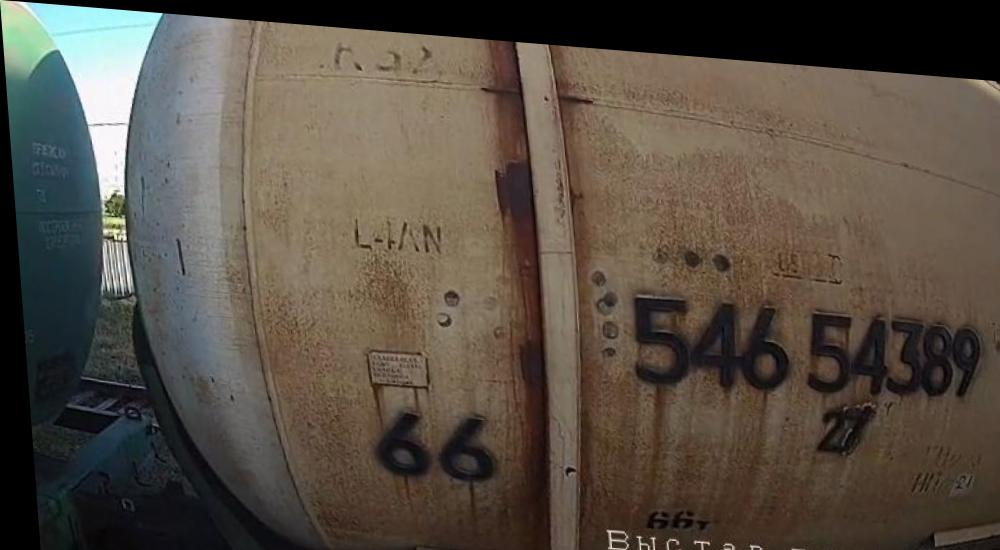Wagon-number: (619, 280, 987, 400)
